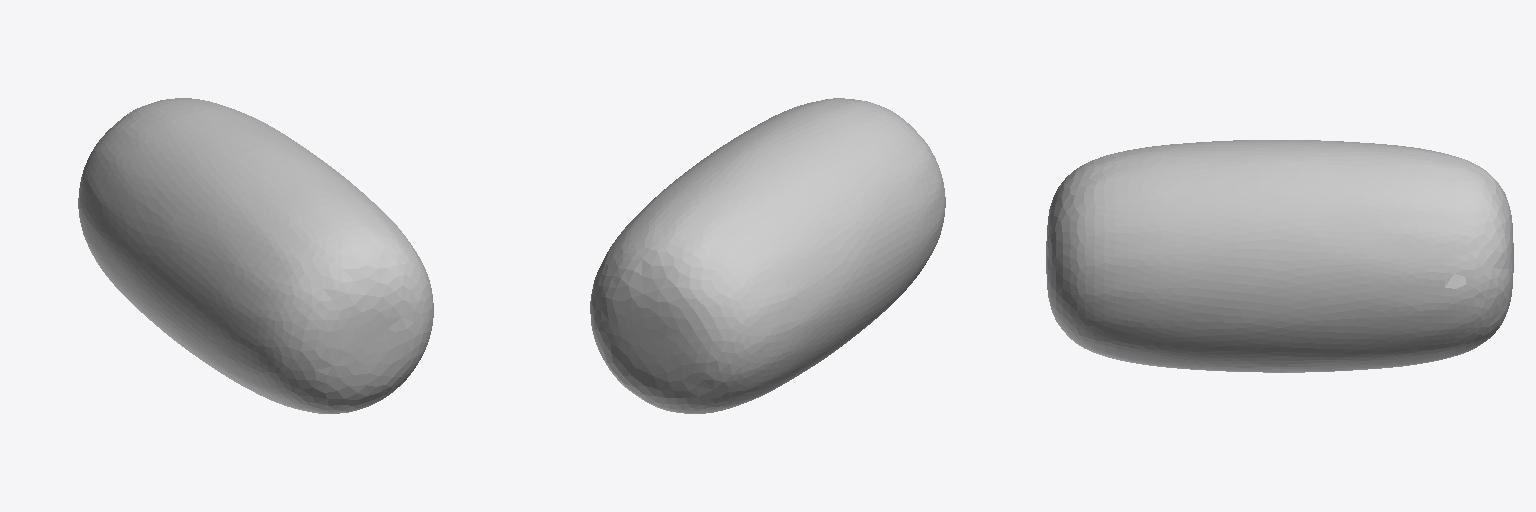
File: snake2.obj
The picture shows the model from 3 angles: view 1: azimuth 30°, elevation 25°; view 2: azimuth 150°, elevation 25°; view 3: azimuth 270°, elevation 25°; orthographic projection.
Bounding box in the file's own units: 0.7961 × 0.7968 × 1.6.